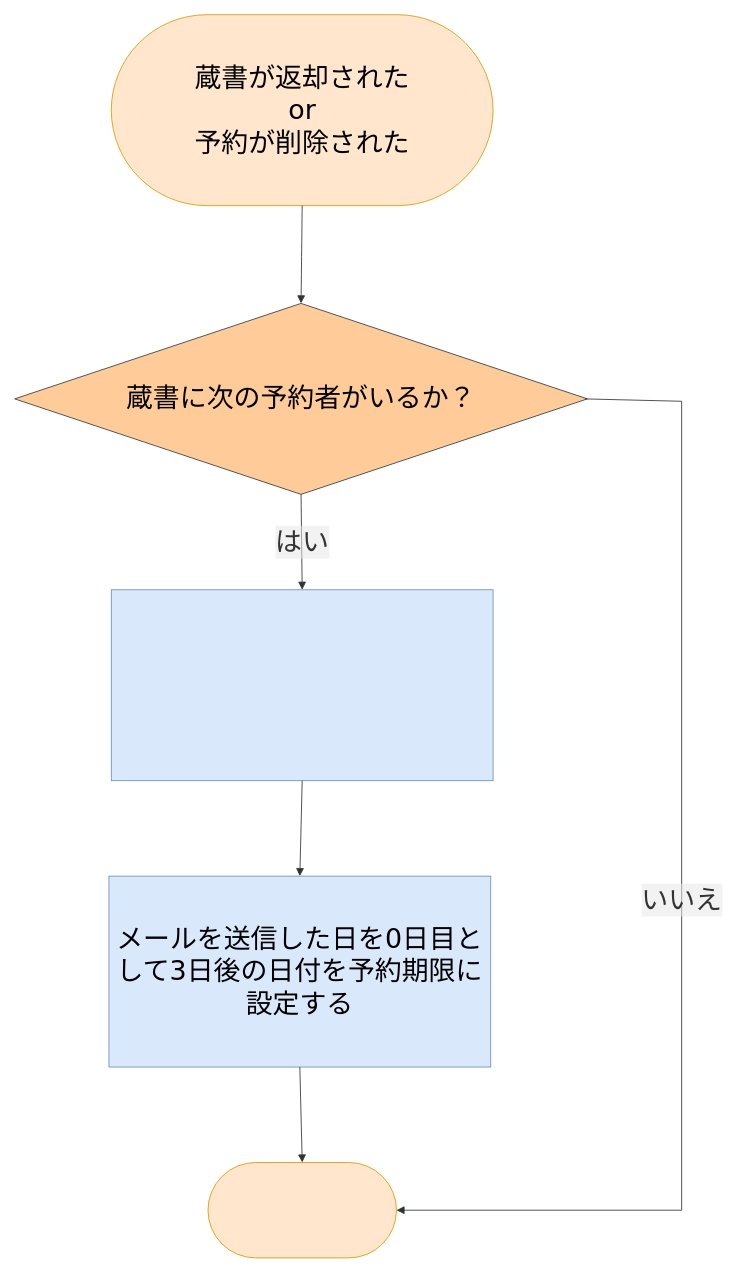
Some shapes in this 737 by 1273 pixel diagram are drawn without their labels. The shapes that lost their labels are listed below. From the top down, each one's centre as x and y in pixels, then its label:
(x=301, y=685): 予約日時が最も古い日付の予約者にメールを送信
(x=301, y=1210): 終了
